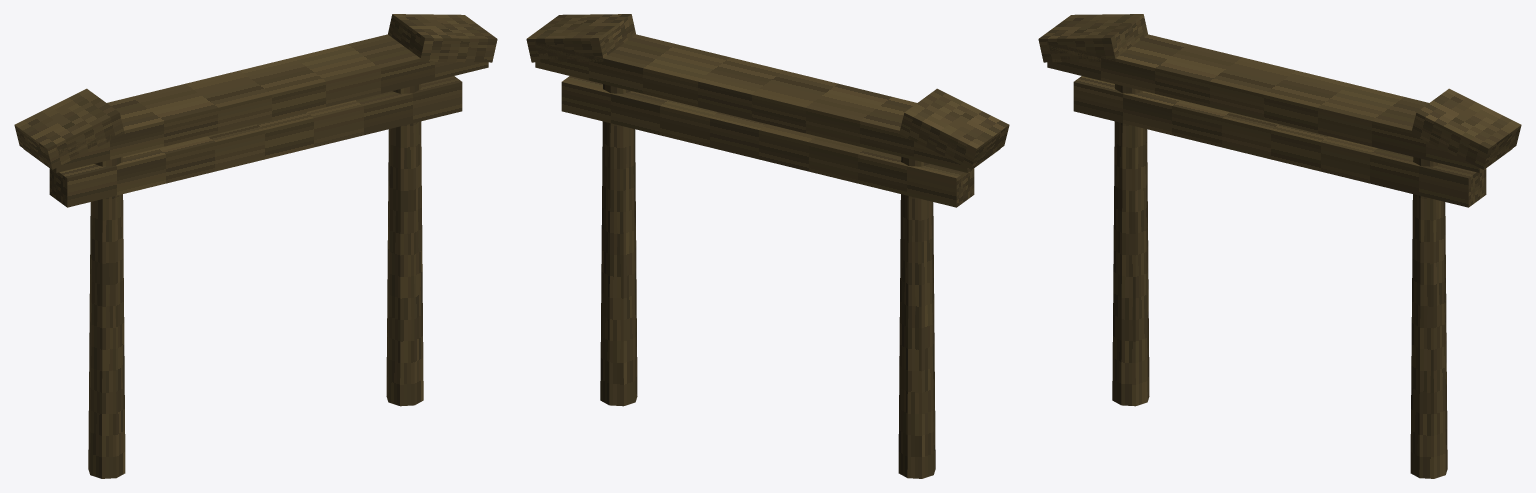
Rendered from gate_00.glb.
3 renders of one model, left to right at view 1: azimuth 30°, elevation 25°; view 2: azimuth 150°, elevation 25°; view 3: azimuth 330°, elevation 25°, orthographic.
Parts seen in each view (by area): view 1: Roof, Lintel, Pillar, Pillar.001, RaisedEave, RaisedEave.001; view 2: Roof, Lintel, Pillar, Pillar.001, RaisedEave, RaisedEave.001; view 3: Roof, Lintel, Pillar.001, Pillar, RaisedEave.001, RaisedEave.
Part boxes in pixels (left/top/right/bottom): Roof: left=24, top=34, right=488, bottom=172; Lintel: left=49, top=76, right=462, bottom=207; Pillar: left=88, top=157, right=125, bottom=478; Pillar.001: left=386, top=84, right=423, bottom=406; RaisedEave: left=14, top=88, right=124, bottom=169; RaisedEave.001: left=388, top=14, right=497, bottom=62; Roof: left=535, top=34, right=999, bottom=172; Lintel: left=561, top=76, right=974, bottom=207; Pillar: left=898, top=157, right=935, bottom=478; Pillar.001: left=600, top=84, right=637, bottom=406; RaisedEave: left=899, top=88, right=1009, bottom=169; RaisedEave.001: left=526, top=14, right=635, bottom=62; Roof: left=1047, top=34, right=1511, bottom=172; Lintel: left=1073, top=76, right=1486, bottom=207; Pillar.001: left=1410, top=157, right=1447, bottom=478; Pillar: left=1112, top=84, right=1149, bottom=406; RaisedEave.001: left=1411, top=88, right=1521, bottom=169; RaisedEave: left=1038, top=14, right=1147, bottom=62.
Bounding box in the file's own units: 5.14 × 4.05 × 0.65.
Materials: 1 (1 with a texture image).
